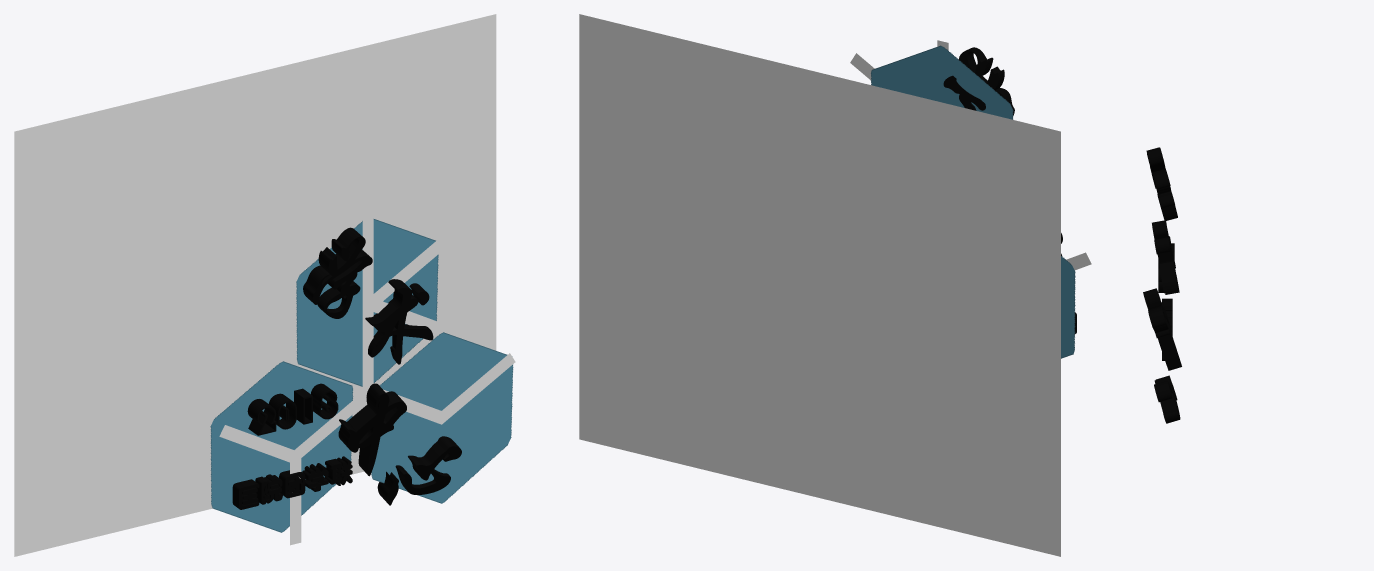
Rendered from 学术中心233.glb.
The picture shows the model from 3 angles, left to right: view 1: azimuth 30°, elevation 25°; view 2: azimuth 150°, elevation 25°; view 3: azimuth 270°, elevation 25°; orthographic projection. The views are drawn at different scales.
Parts seen in each view (by area): view 1: mesh_id1, mesh_id65, mesh_id59, mesh_id52, mesh_id134, mesh_id272, mesh_id151, mesh_id223, mesh_id141, mesh_id162, mesh_id79, mesh_id81 (+4 smaller); view 2: mesh_id1, mesh_id52, mesh_id134, mesh_id59; view 3: mesh_id151, mesh_id141, mesh_id134, mesh_id162.
Boxes of the visible parts, x1,y1,x2,y2 form: mesh_id1: (14,14,496,556); mesh_id65: (371,332,513,503); mesh_id59: (210,361,353,532); mesh_id52: (296,219,438,386); mesh_id134: (303,227,372,318); mesh_id272: (232,456,352,509); mesh_id151: (338,383,406,476); mesh_id223: (247,383,338,435); mesh_id141: (365,279,433,364); mesh_id162: (377,436,461,505); mesh_id79: (362,212,373,392); mesh_id81: (365,225,460,309); mesh_id1: (579,14,1060,556); mesh_id52: (871,45,1013,119); mesh_id134: (943,47,1014,115); mesh_id59: (1061,256,1075,358); mesh_id151: (1143,288,1181,370); mesh_id141: (1152,220,1179,294); mesh_id134: (1146,147,1177,220); mesh_id162: (1154,375,1180,423).
Bounding box in the file's own units: 0.71 × 0.599 × 0.3366.
Materials: 19 (15 with a texture image).
